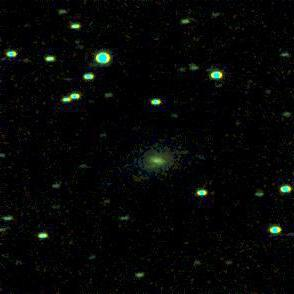star: (173, 136, 203, 166)
